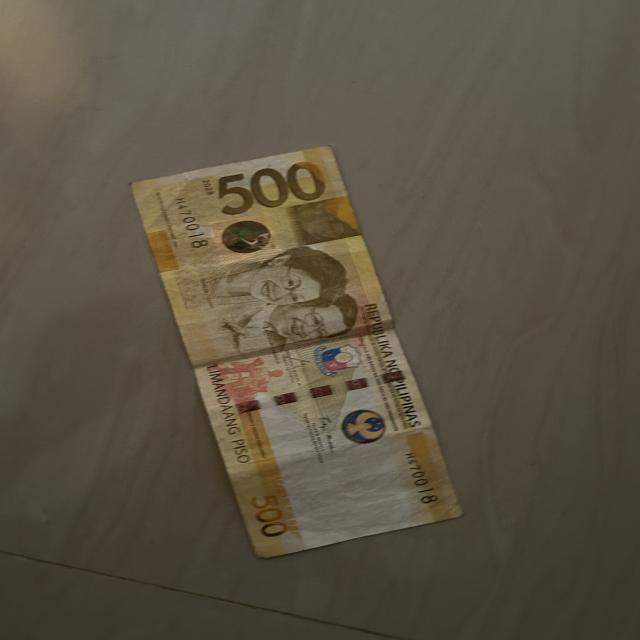concealed_value: (297, 198, 353, 238)
optically_variable_device: (222, 222, 271, 256)
